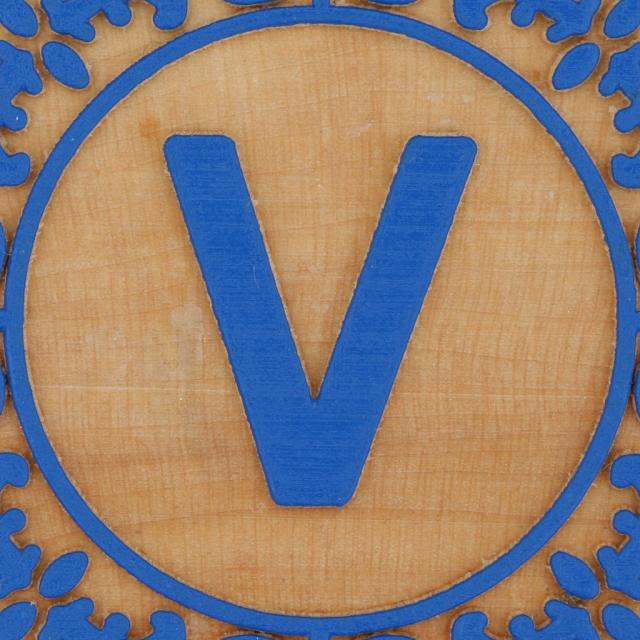V: (139, 101, 501, 544)
